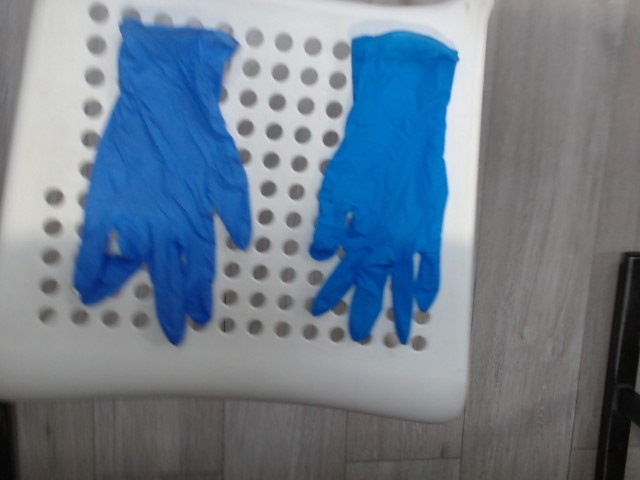medical_glove: (74, 20, 251, 343), (312, 30, 458, 343)
